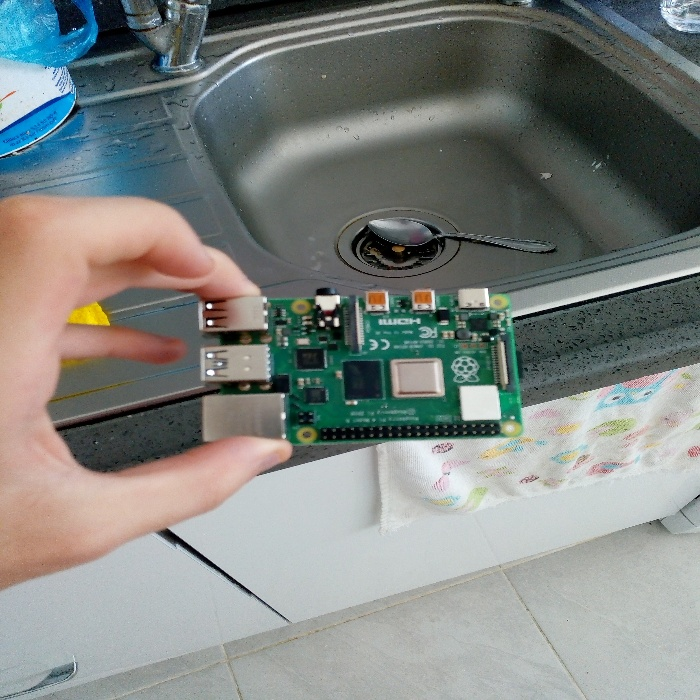raspberry: (164, 276, 530, 450)
